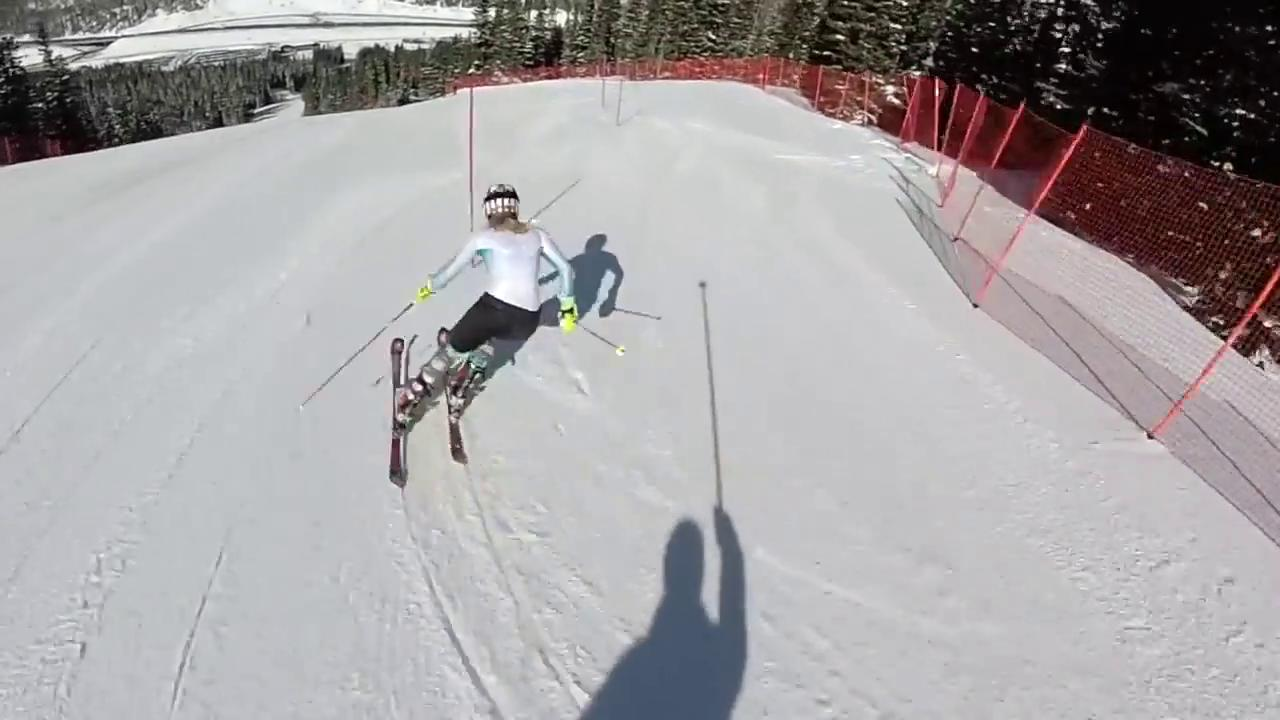gate: (468, 87, 478, 231)
